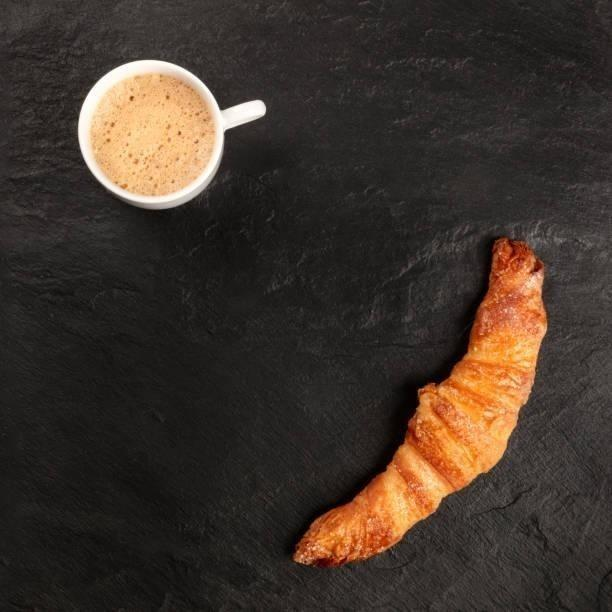cup-handle: (75, 58, 268, 213)
